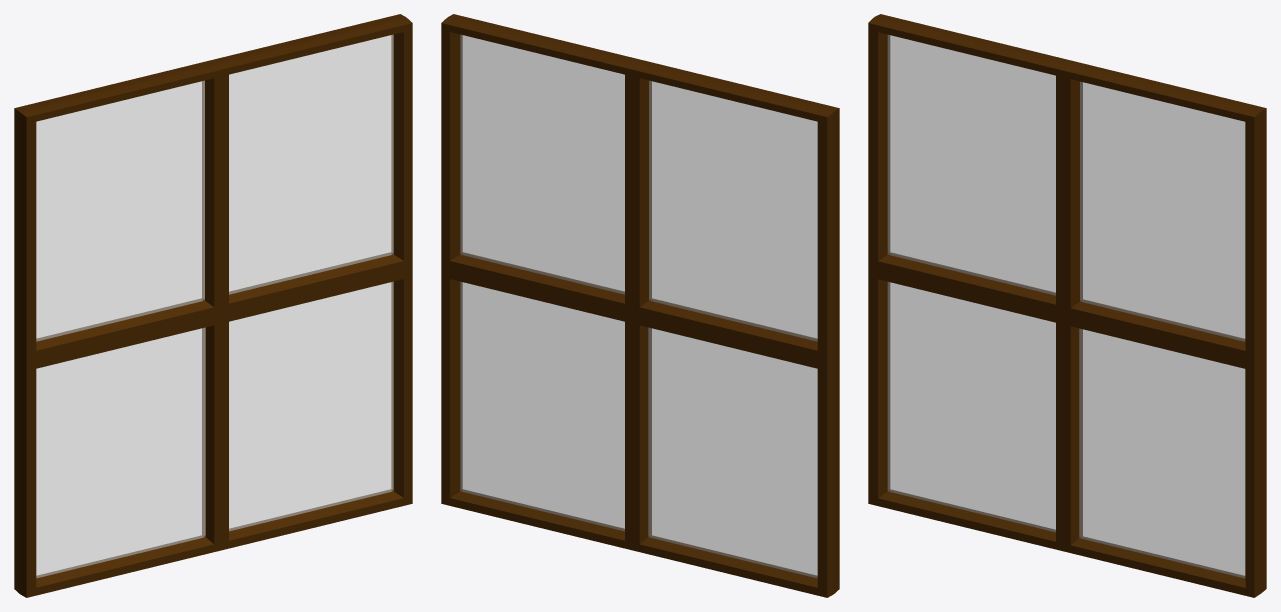
The model's file is Window.fbx.
The picture shows the model from 3 angles, left to right: view 1: azimuth 30°, elevation 25°; view 2: azimuth 150°, elevation 25°; view 3: azimuth 330°, elevation 25°; orthographic projection.
Visible parts, largest first — view 1: Window; view 2: Window; view 3: Window.
Boxes of the visible parts, box(x1,y1,x2,y2) form: Window: box(14, 14, 412, 597); Window: box(441, 14, 839, 597); Window: box(868, 14, 1266, 597).
Bounding box in the file's own units: 0.7282 × 0.867 × 0.0403.
